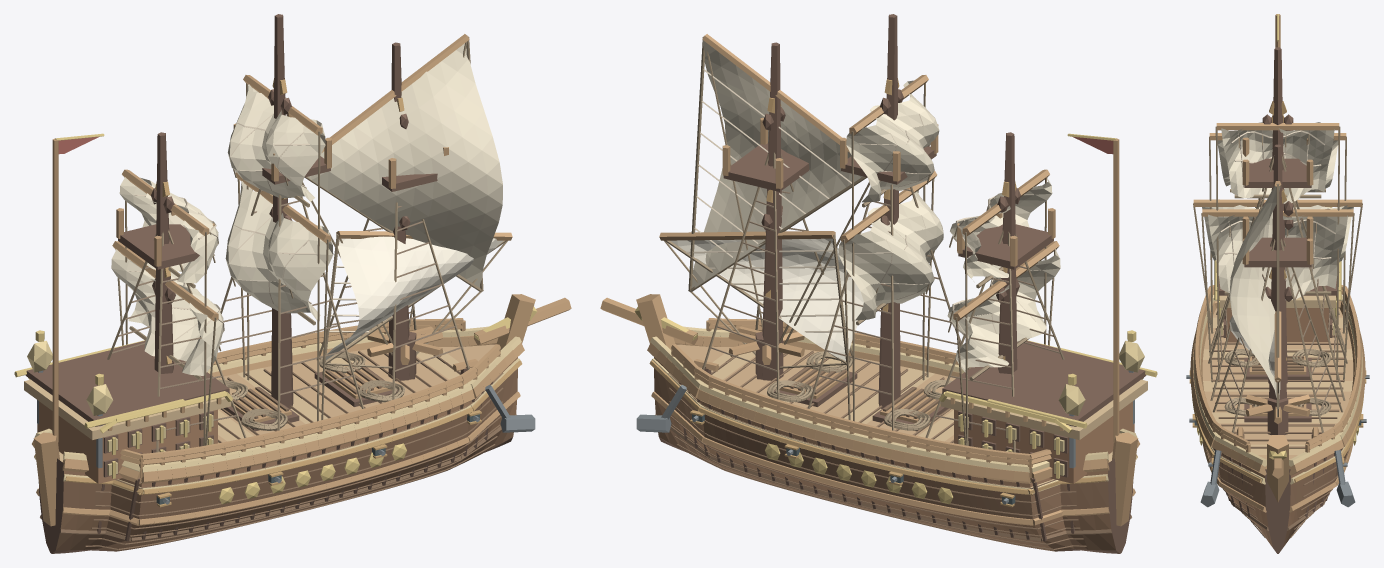
The model's file is carrack-v5-mobile.glb.
3 views of the same model, side by side, from view 1: azimuth 30°, elevation 25°; view 2: azimuth 150°, elevation 25°; view 3: azimuth 270°, elevation 25° (orthographic). The views are drawn at different scales.
Visible parts, largest first — view 1: carrack_sails_sail, carrack_hull_wood, carrack_masts_darkwood, carrack_hull_hull, carrack_deck_darkwood, carrack_hull_seam, carrack_sails_sailbright, carrack_railings_wood, carrack_rigging_rope, carrack_hull_pale, carrack_hull_hull2, carrack_rigging_wood (+19 smaller); view 2: carrack_sails_sail, carrack_masts_darkwood, carrack_hull_wood, carrack_hull_hull, carrack_deck_darkwood, carrack_rigging_rope, carrack_sails_sailbright, carrack_hull_seam, carrack_railings_wood, carrack_rigging_wood, carrack_hull_hull2, carrack_hull_pale (+19 smaller); view 3: carrack_sails_sail, carrack_masts_darkwood, carrack_hull_wood, carrack_hull_deck, carrack_rigging_rope, carrack_rigging_wood, carrack_hull_seam, carrack_masts_rope, carrack_railings_wood, carrack_hull_decklight, carrack_hull_hull, carrack_hull_pale (+17 smaller).
Part boxes in pixels (bbox=[...]): carrack_sails_sail: bbox=[111, 43, 502, 375]; carrack_hull_wood: bbox=[32, 294, 571, 526]; carrack_masts_darkwood: bbox=[118, 14, 437, 408]; carrack_hull_hull: bbox=[56, 368, 517, 551]; carrack_deck_darkwood: bbox=[25, 341, 229, 477]; carrack_hull_seam: bbox=[40, 350, 516, 550]; carrack_sails_sailbright: bbox=[325, 236, 503, 360]; carrack_railings_wood: bbox=[120, 318, 500, 477]; carrack_rigging_rope: bbox=[117, 36, 507, 445]; carrack_hull_pale: bbox=[34, 326, 521, 493]; carrack_hull_hull2: bbox=[60, 344, 517, 538]; carrack_rigging_wood: bbox=[112, 34, 512, 321]; carrack_sails_sail: bbox=[691, 40, 1060, 372]; carrack_masts_darkwood: bbox=[723, 14, 1053, 408]; carrack_hull_wood: bbox=[600, 294, 1139, 526]; carrack_hull_hull: bbox=[654, 368, 1115, 551]; carrack_deck_darkwood: bbox=[942, 341, 1146, 477]; carrack_rigging_rope: bbox=[664, 36, 1055, 445]; carrack_sails_sailbright: bbox=[670, 238, 863, 360]; carrack_hull_seam: bbox=[655, 351, 1131, 550]; carrack_railings_wood: bbox=[671, 318, 1051, 477]; carrack_rigging_wood: bbox=[659, 34, 1059, 321]; carrack_hull_hull2: bbox=[654, 344, 1111, 538]; carrack_hull_pale: bbox=[650, 326, 1137, 494]; carrack_sails_sail: bbox=[1202, 122, 1353, 398]; carrack_masts_darkwood: bbox=[1244, 47, 1311, 399]; carrack_hull_wood: bbox=[1190, 300, 1365, 512]; carrack_hull_deck: bbox=[1202, 308, 1353, 459]; carrack_rigging_rope: bbox=[1193, 126, 1362, 417]; carrack_rigging_wood: bbox=[1193, 123, 1362, 382]; carrack_hull_seam: bbox=[1205, 320, 1350, 537]; carrack_masts_rope: bbox=[1208, 155, 1347, 433]; carrack_railings_wood: bbox=[1194, 285, 1361, 452]; carrack_hull_decklight: bbox=[1203, 317, 1352, 454]; carrack_hull_hull: bbox=[1208, 451, 1347, 547]; carrack_hull_pale: bbox=[1193, 295, 1362, 484].
Bounding box in the file's own units: 47.73 × 42.14 × 16.78.
